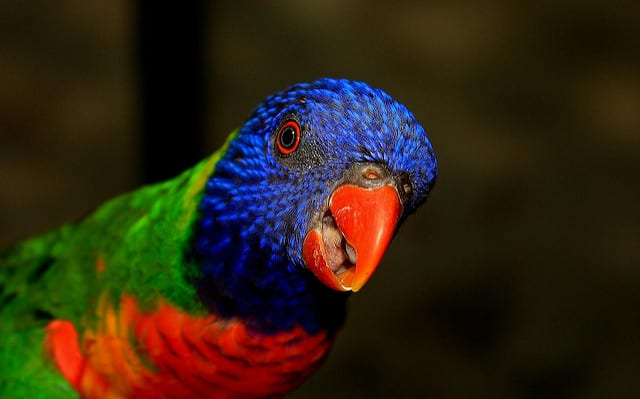gaga: (328, 183, 399, 293), (301, 226, 348, 289)
goz: (274, 119, 300, 156)
kafa: (182, 78, 434, 342)
